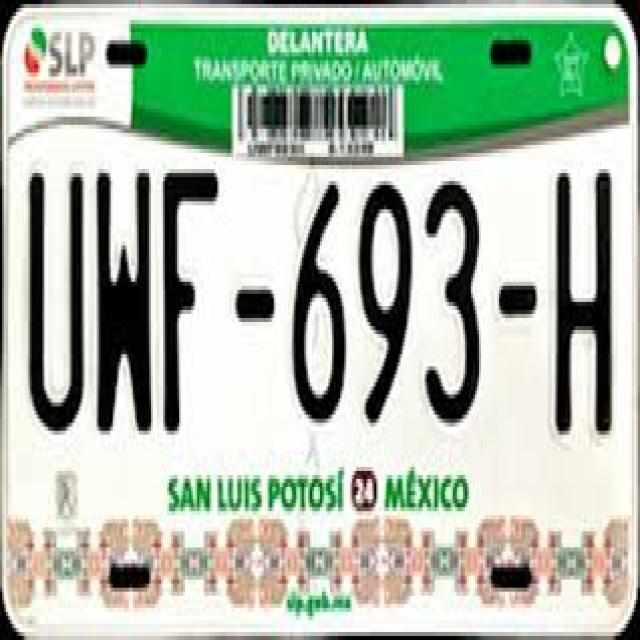placa: (9, 157, 630, 461)
